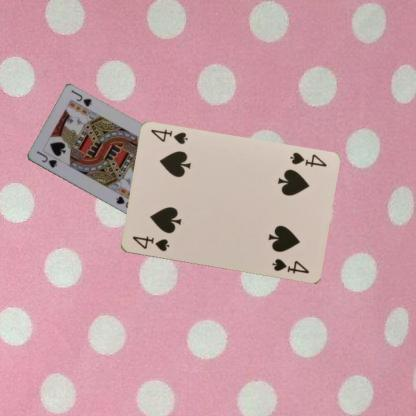4s: (287, 149, 328, 169), (130, 233, 170, 253)
Js: (34, 148, 58, 169)
